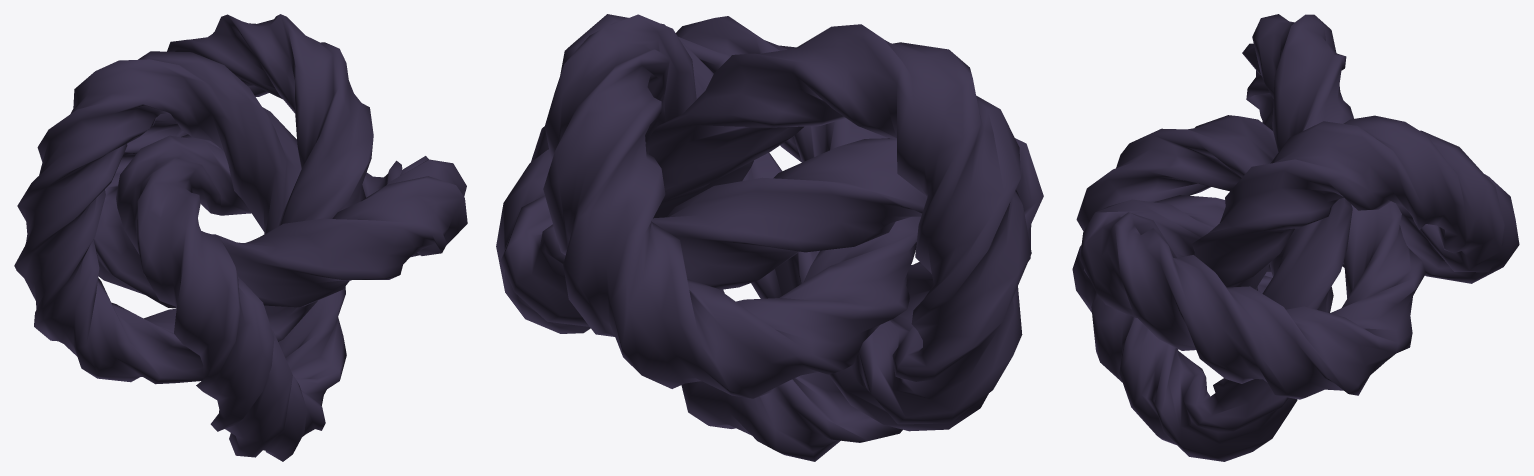
3 renders of one model, left to right at view 1: azimuth 30°, elevation 25°; view 2: azimuth 150°, elevation 25°; view 3: azimuth 270°, elevation 25°, orthographic. The views are drawn at different scales.
Visible parts, largest first — view 1: Torus_02; view 2: Torus_02; view 3: Torus_02.
Boxes of the visible parts, left/top/right/bottom form: Torus_02: left=14, top=14, right=467, bottom=461; Torus_02: left=496, top=14, right=1043, bottom=461; Torus_02: left=1072, top=14, right=1519, bottom=461.
Bounding box in the file's own units: 315 × 292 × 305.
1 material, 1 textured.
